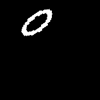chain: (22, 10, 51, 35)
